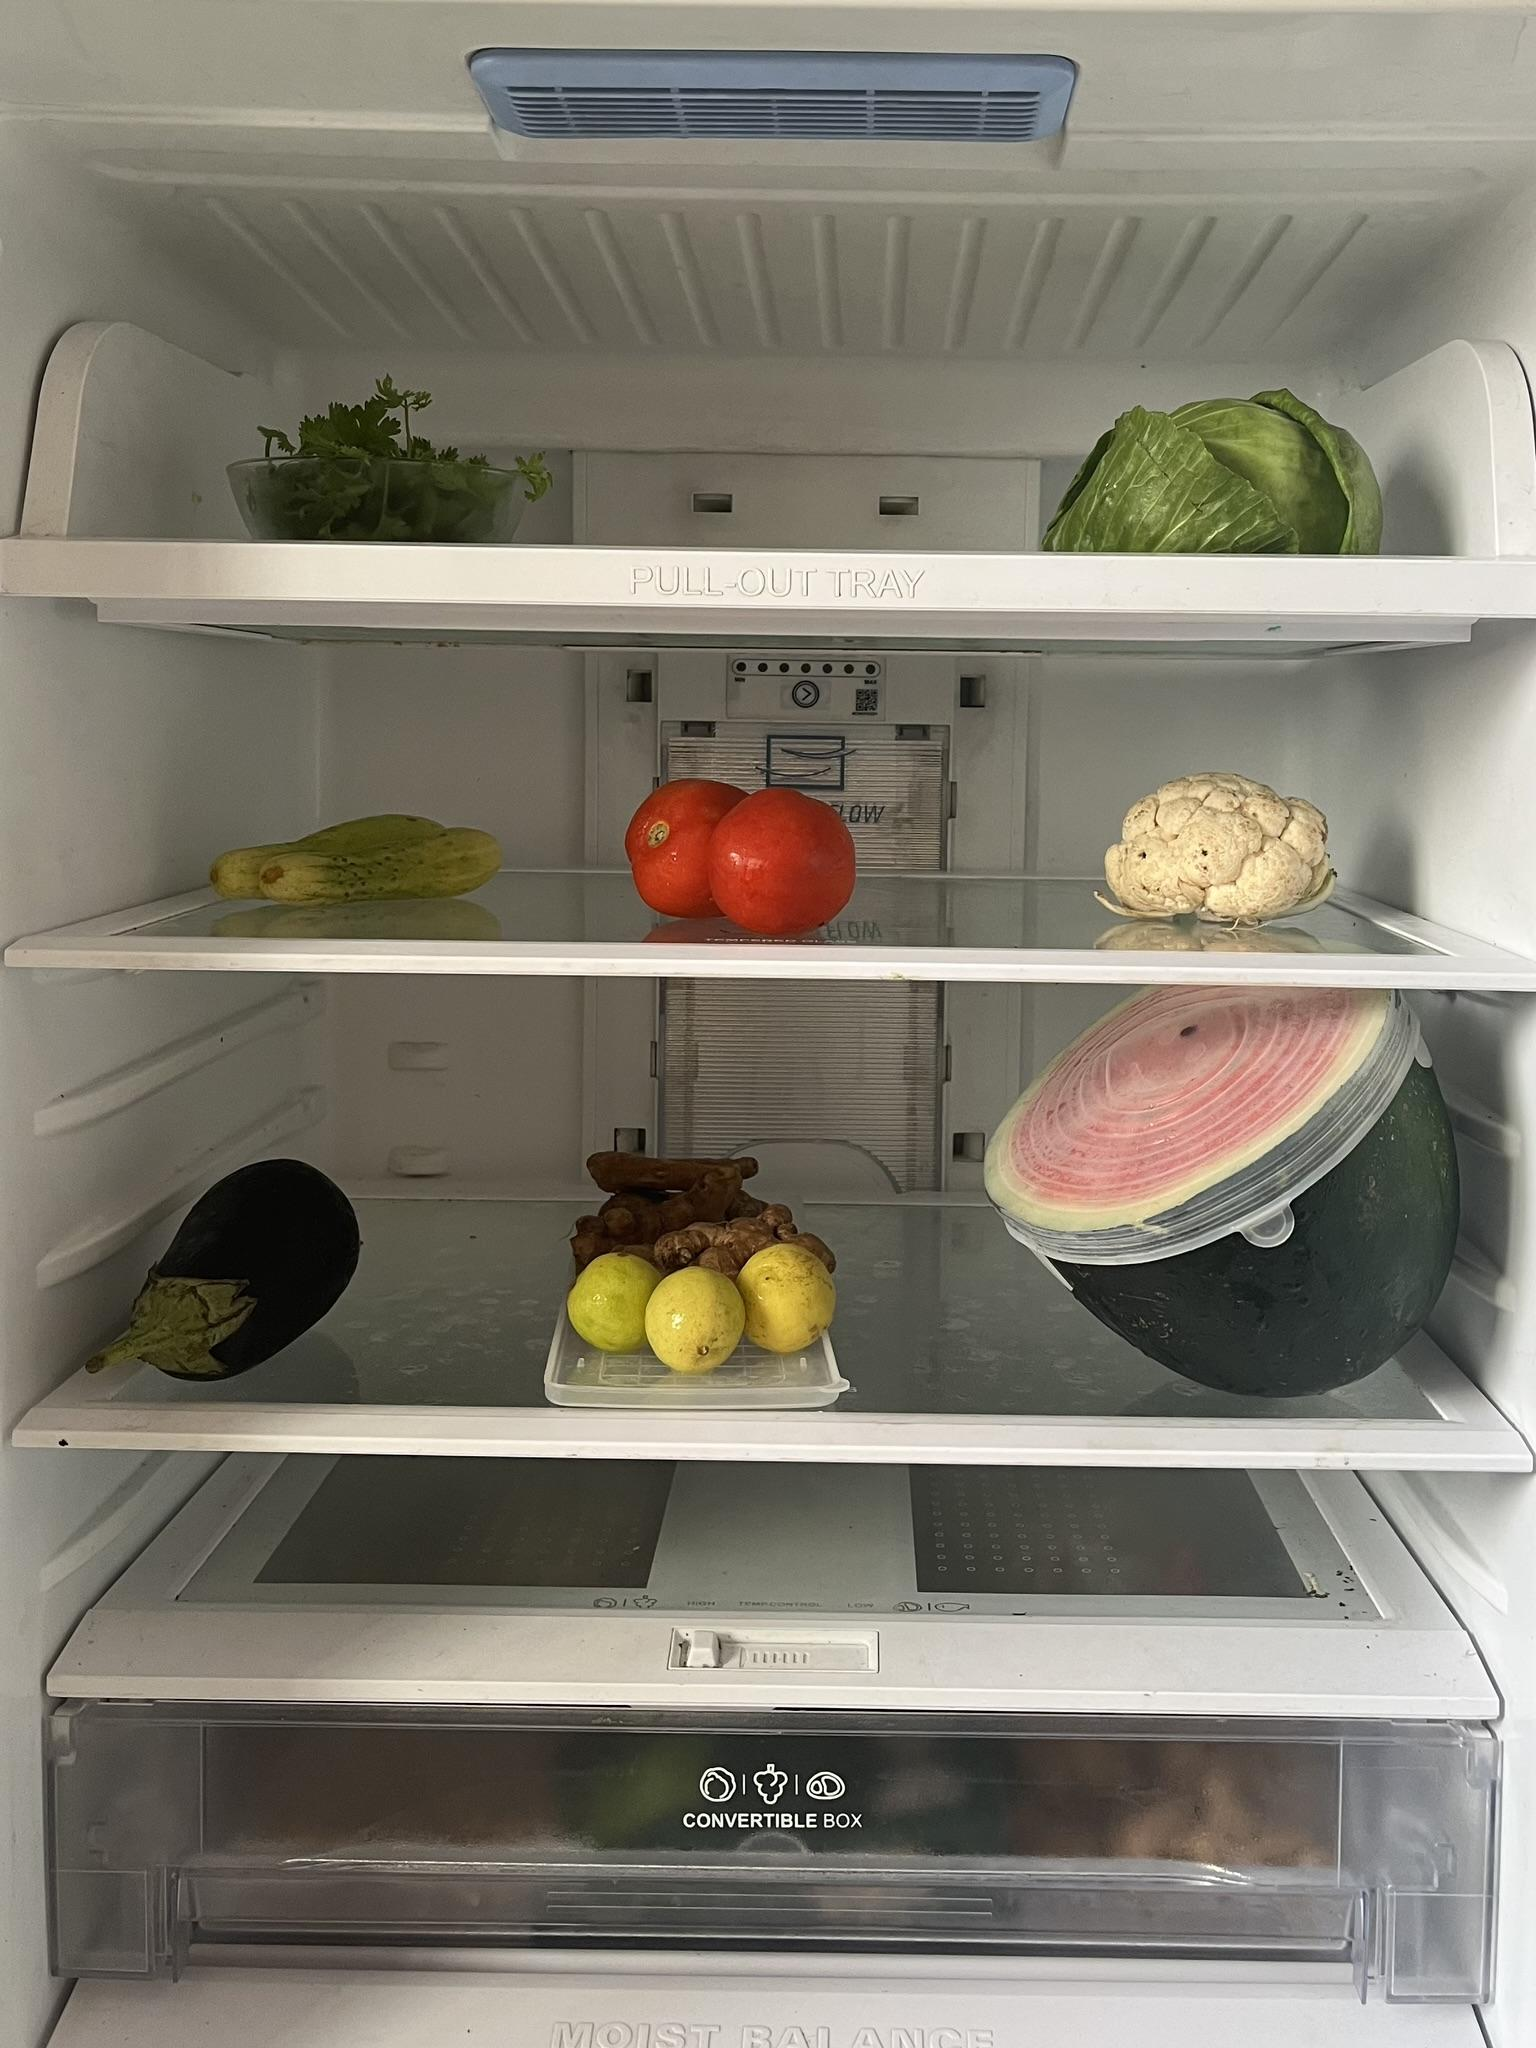bringal: (90, 1156, 360, 1371)
cabbage: (1054, 377, 1383, 550)
cauliflower: (1107, 777, 1326, 921)
coriander: (216, 381, 529, 534)
cucumber: (219, 806, 510, 903)
ginger: (576, 1130, 813, 1253)
lemon: (573, 1250, 837, 1363)
watermelon: (994, 987, 1460, 1400)
